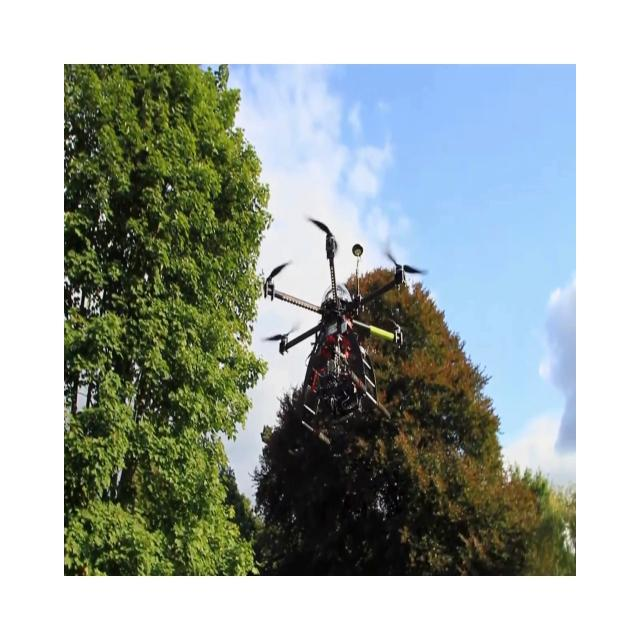drone: (261, 216, 428, 434)
